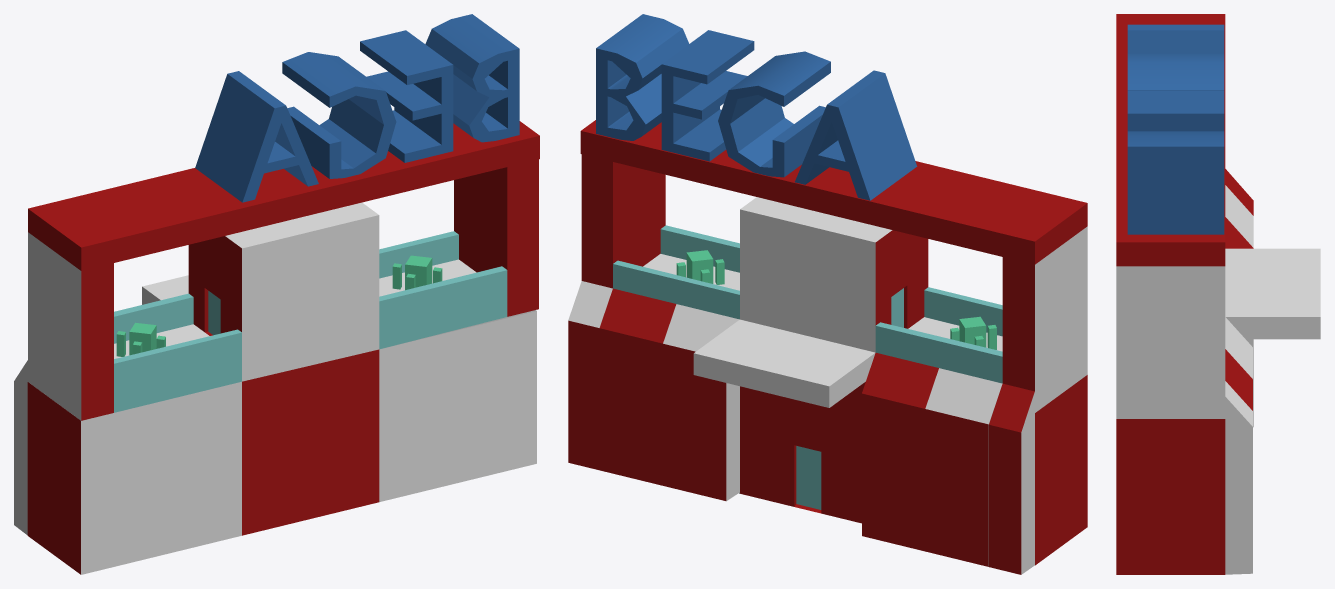
The model's file is Arcade.fbx.
3 renders of one model, left to right at view 1: azimuth 30°, elevation 25°; view 2: azimuth 150°, elevation 25°; view 3: azimuth 270°, elevation 25°, orthographic. The views are drawn at different scales.
Visible parts, largest first — view 1: typeMesh2; view 2: typeMesh2; view 3: typeMesh2.
Boxes of the visible parts, x1,y1,x2,y2 form: typeMesh2: [14, 14, 539, 574]; typeMesh2: [568, 14, 1087, 574]; typeMesh2: [1116, 14, 1320, 574].
Size of the model in its own units: 14 by 12.13 by 5.28.
